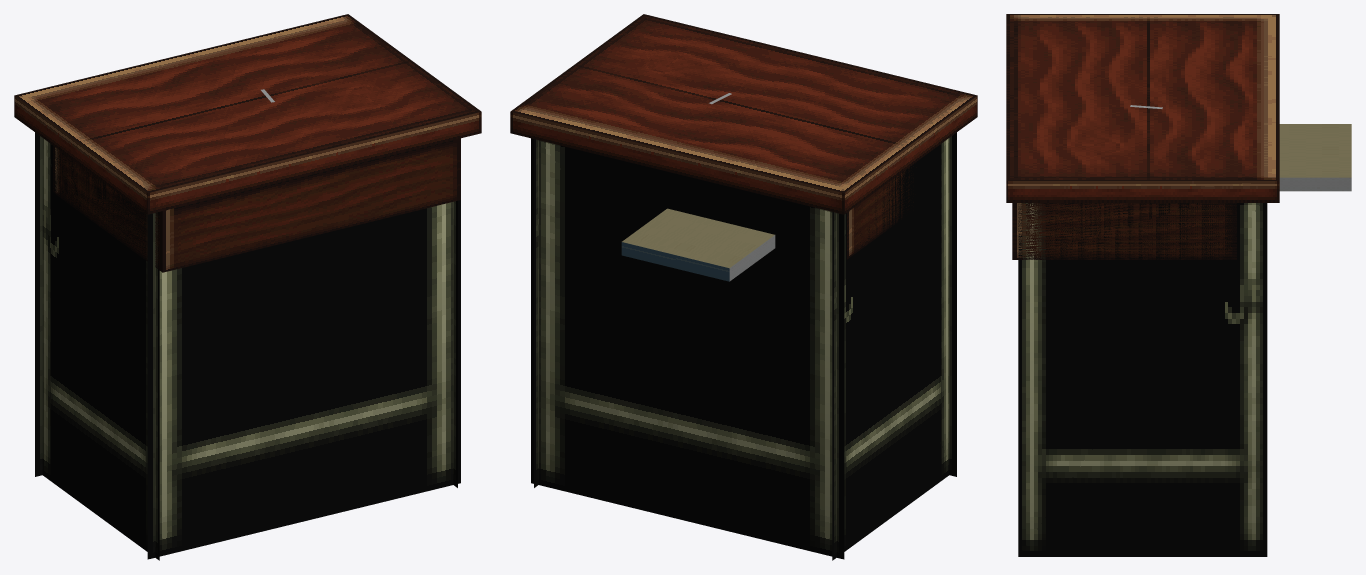
File: prop_desk-2.glb
3 renders of one model, left to right at view 1: azimuth 30°, elevation 25°; view 2: azimuth 150°, elevation 25°; view 3: azimuth 270°, elevation 25°, orthographic. The views are drawn at different scales.
Parts seen in each view (by area): view 1: prop_desk-2; view 2: prop_desk-2; view 3: prop_desk-2.
Boxes of the visible parts, <box> form: prop_desk-2: <box>14,14,481,560</box>; prop_desk-2: <box>510,14,977,560</box>; prop_desk-2: <box>1006,14,1351,556</box>.
Size of the model in its own units: 0.6695 by 0.7231 by 0.5861.
5 materials, 5 textured.
